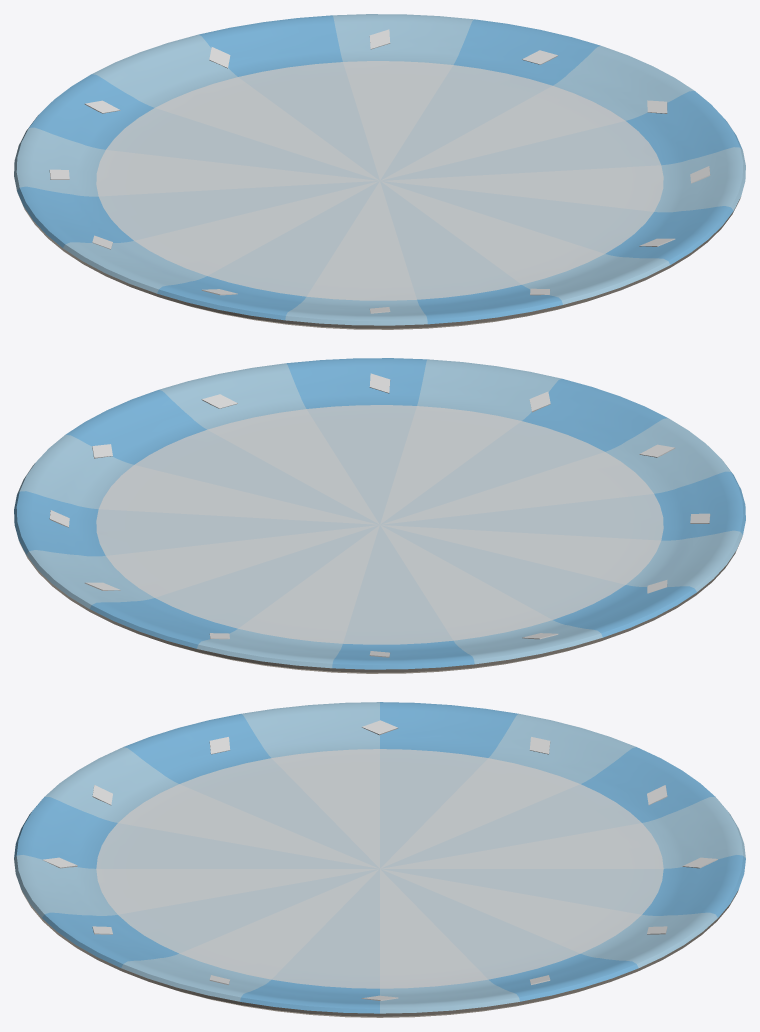
Rendered from plate_diamond.glb.
3 views of the same model, one above another, from view 1: azimuth 30°, elevation 25°; view 2: azimuth 150°, elevation 25°; view 3: azimuth 270°, elevation 25° (orthographic).
Parts seen in each view (by area): view 1: body; view 2: body; view 3: body.
Part boxes in pixels (x1,y1,x2,y2): body: (14, 14, 745, 329); body: (14, 358, 745, 673); body: (14, 702, 745, 1017).
Bounding box in the file's own units: 1.6 × 0.0939 × 1.6.
